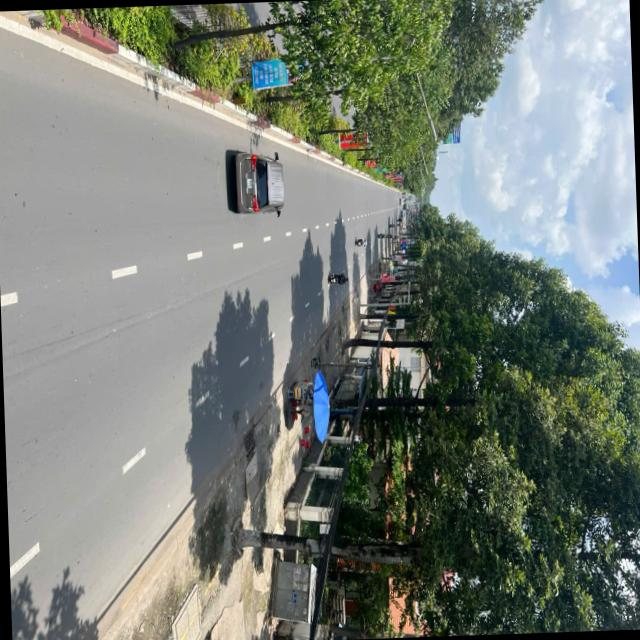car: (225, 144, 291, 222)
motobyte: (323, 267, 350, 290), (348, 234, 374, 252), (374, 230, 388, 243)
